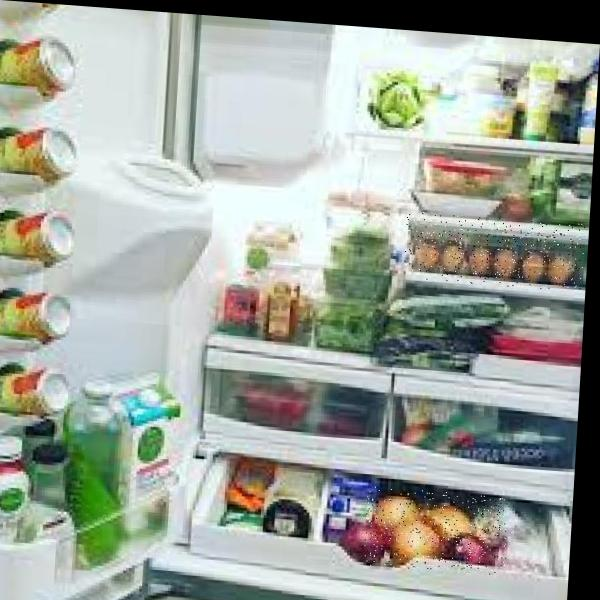eggs: (404, 211, 586, 292)
milk: (101, 369, 189, 541)
onion: (364, 486, 510, 576)
